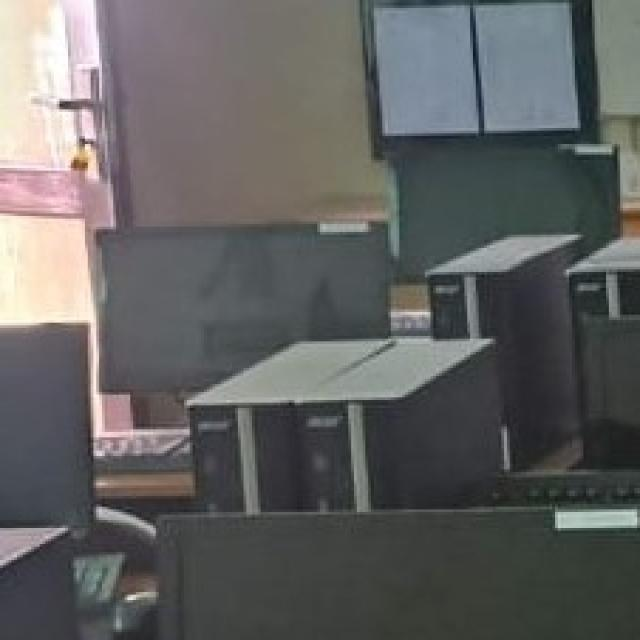offscreen: (100, 227, 386, 392), (396, 140, 615, 279)
